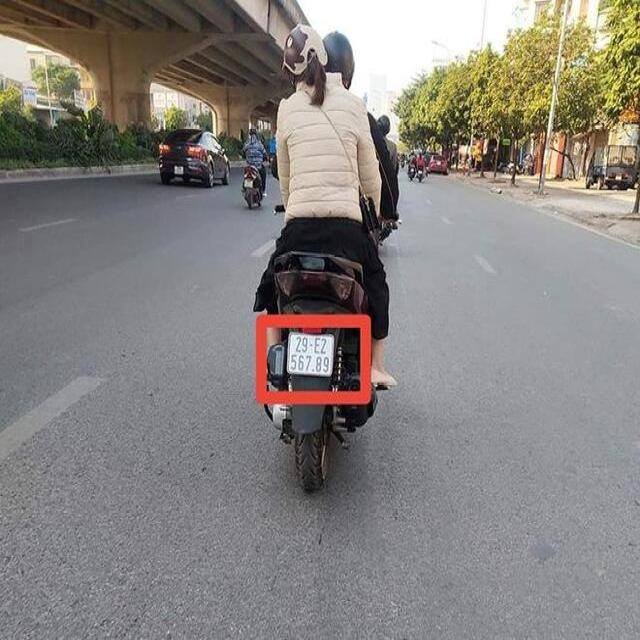car: (153, 126, 235, 190)
motorcycle: (260, 231, 384, 504), (237, 164, 267, 214)
plate: (284, 326, 338, 382)
